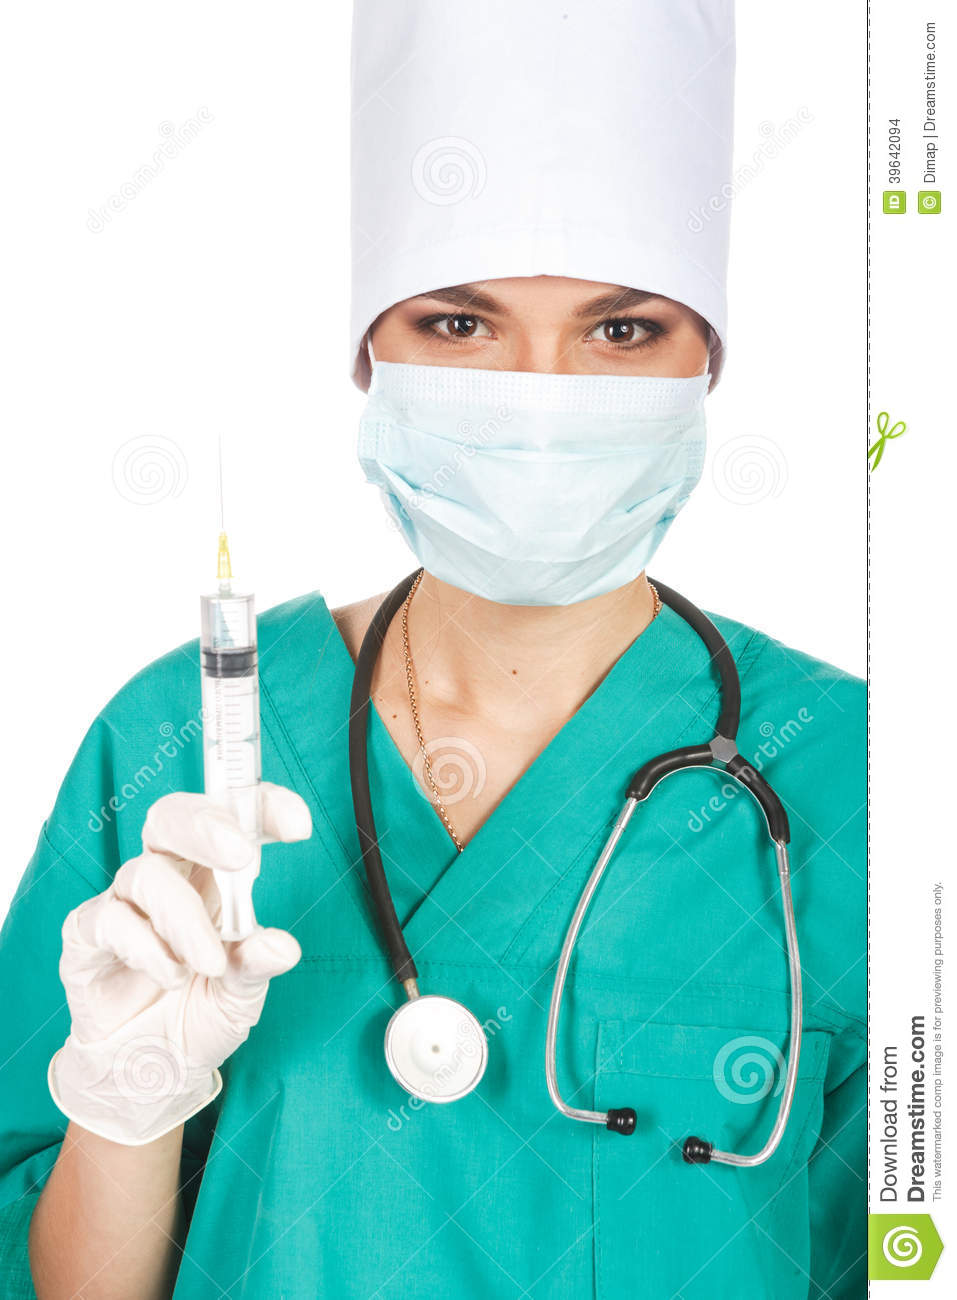mask: (360, 361, 726, 625)
